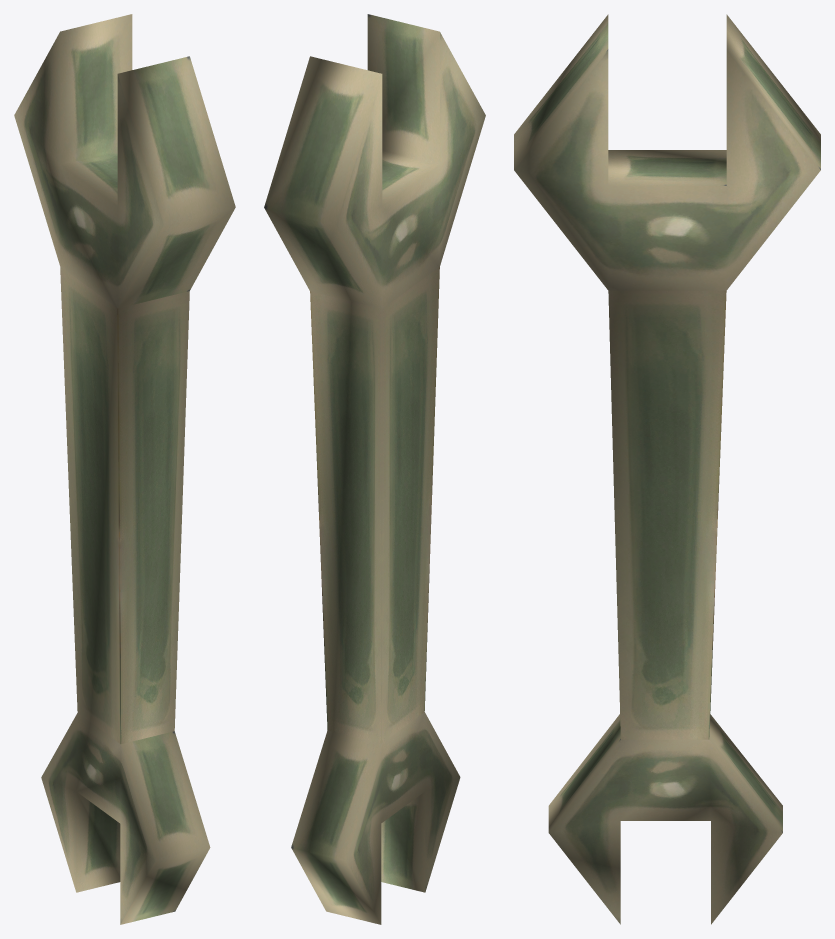
File: wrench01.obj
3 renders of one model, left to right at view 1: azimuth 30°, elevation 25°; view 2: azimuth 150°, elevation 25°; view 3: azimuth 270°, elevation 25°, orthographic. The views are drawn at different scales.
Parts seen in each view (by area): view 1: wrench01; view 2: wrench01; view 3: wrench01.
Boxes of the visible parts, x1,y1,x2,y2 form: wrench01: [14, 14, 235, 924]; wrench01: [264, 14, 485, 924]; wrench01: [514, 14, 820, 924].
Size of the model in its own units: 0.0873 by 0.9927 by 0.3139.
Materials: 1 (1 with a texture image).
